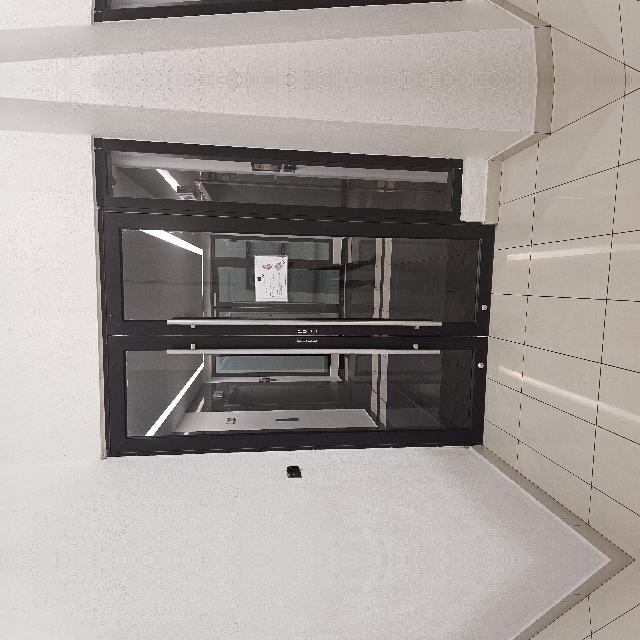door: (101, 174, 341, 580), (101, 540, 341, 640)
